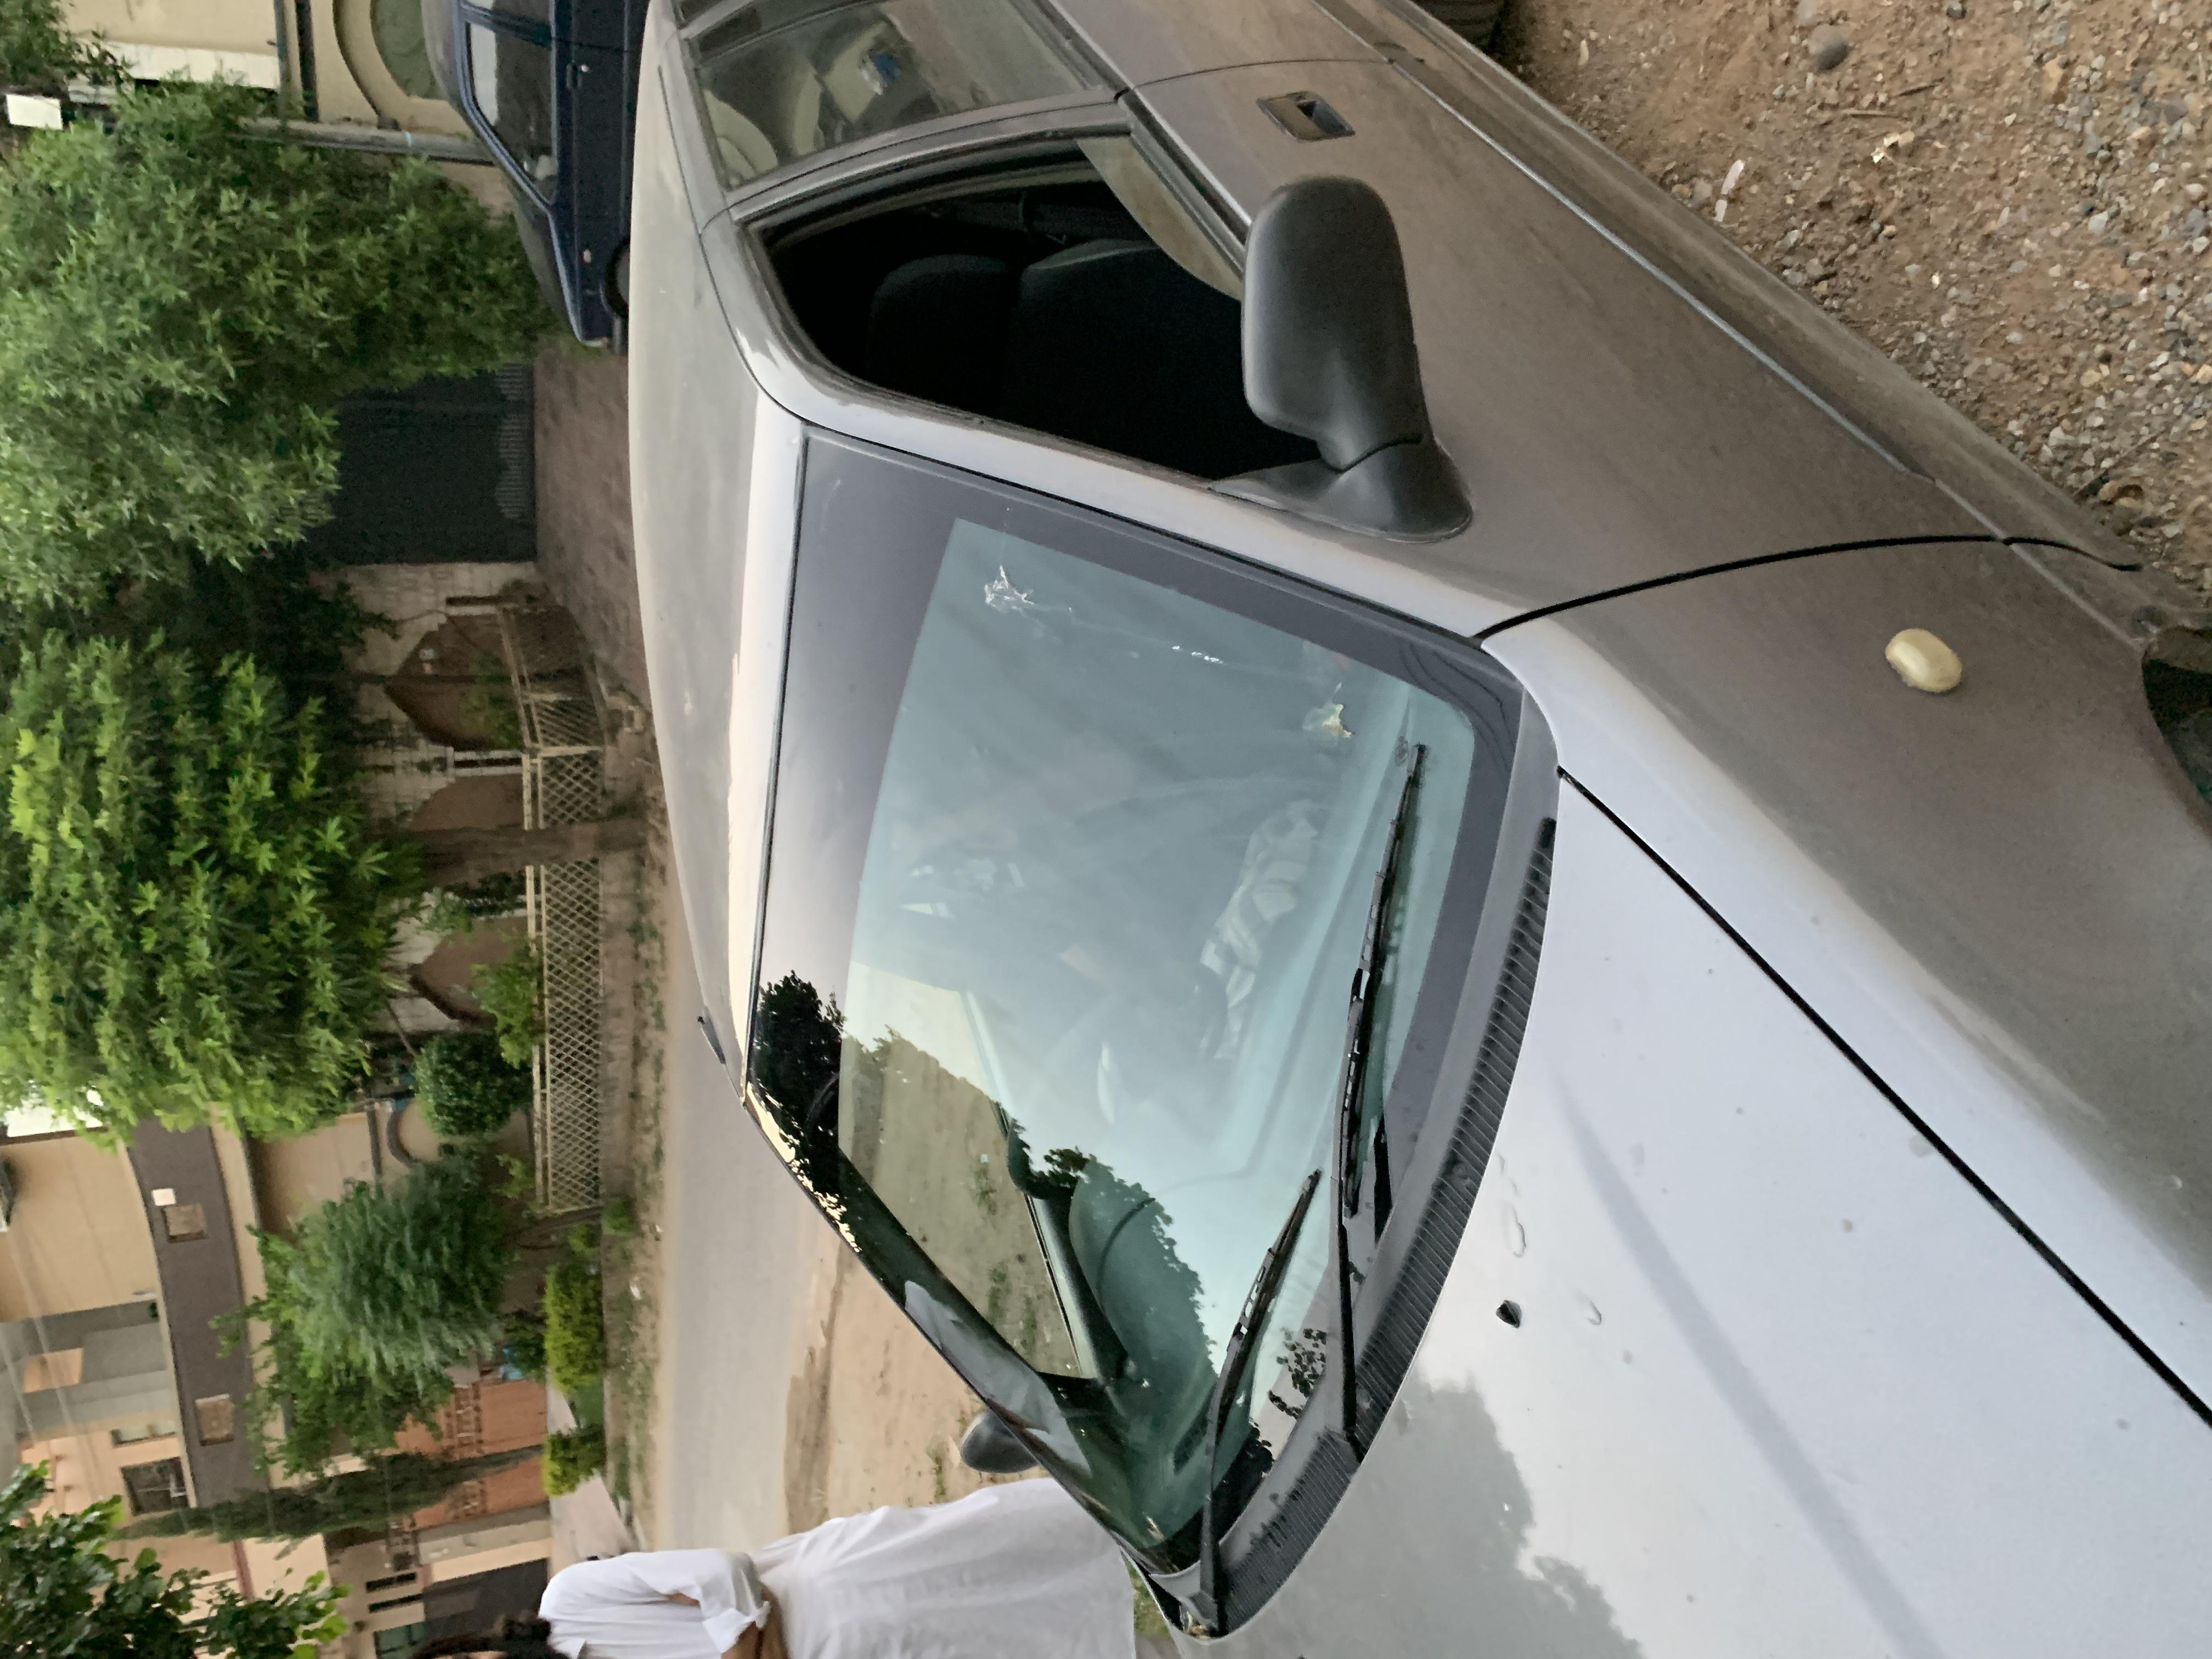windshield: (16, 551, 1669, 1182)
